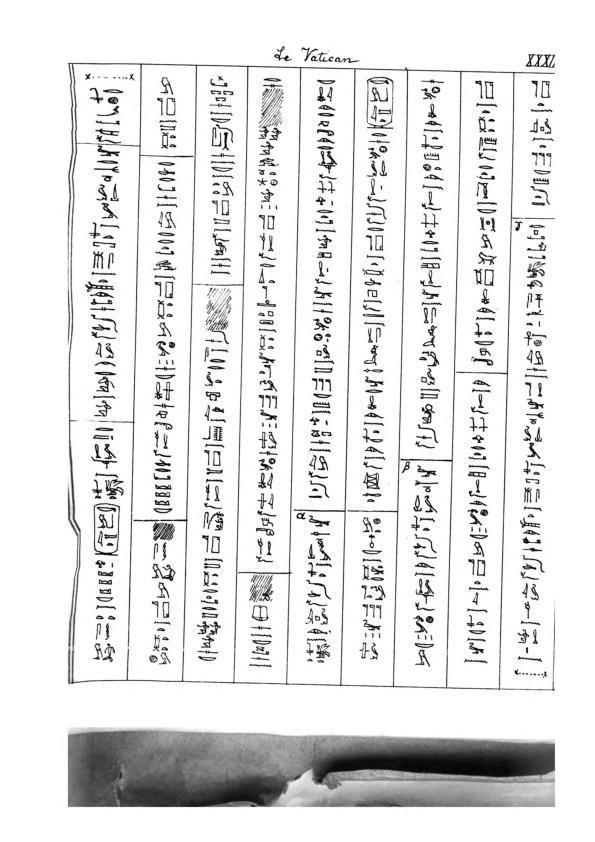circle: (364, 76, 395, 131), (92, 502, 121, 557)
